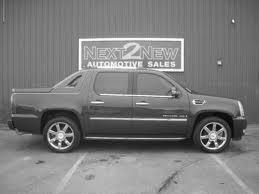car: (1, 51, 258, 172)
